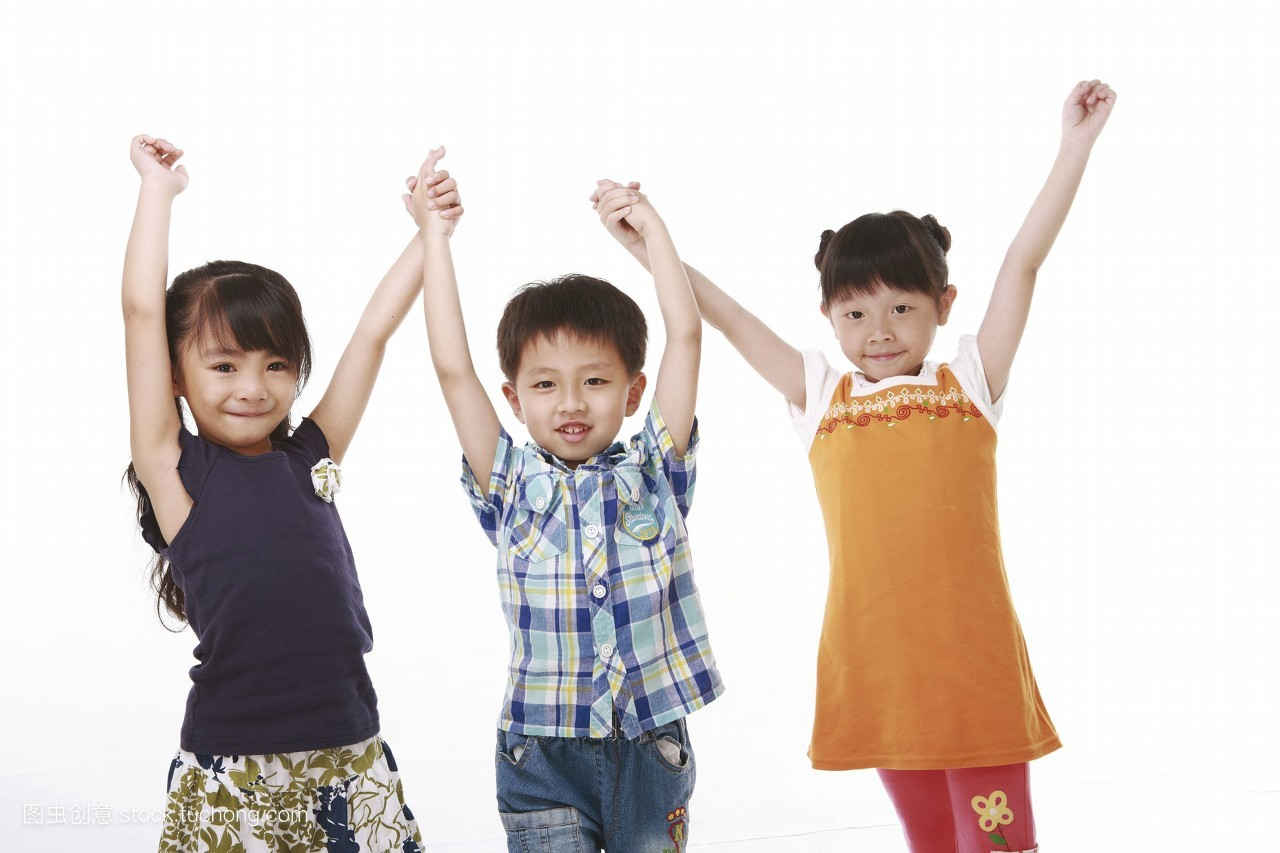handsup: (594, 75, 1128, 853), (107, 115, 464, 853), (397, 136, 741, 853)
